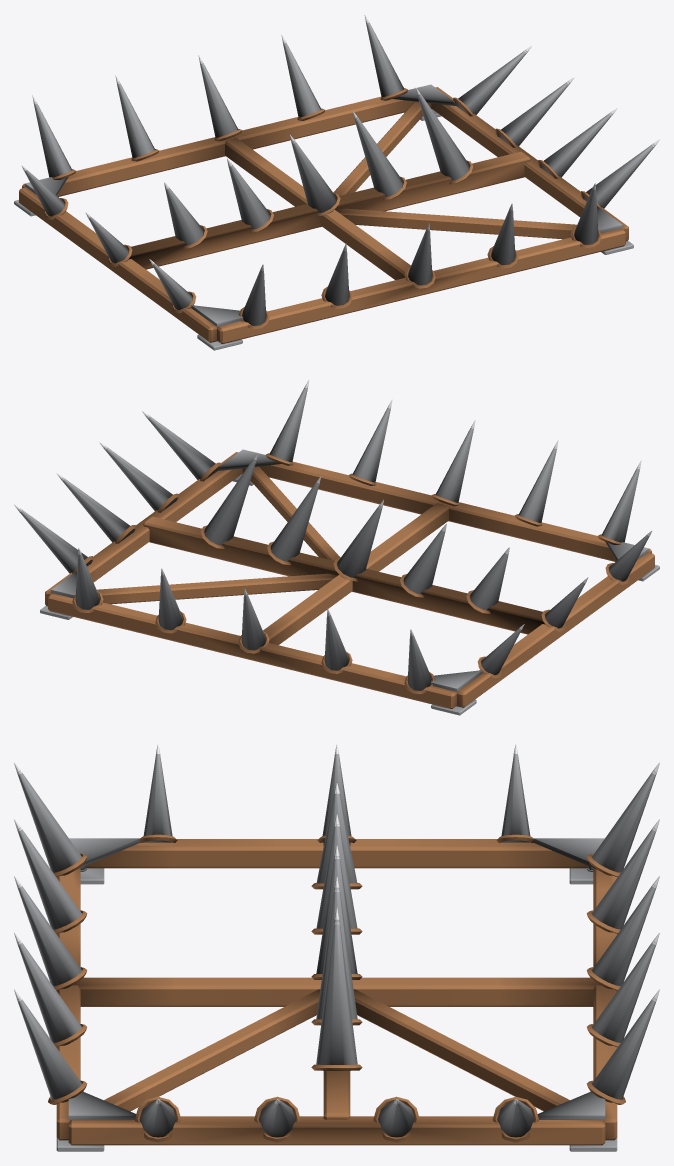
Rendered from roof_spikes.glb.
The picture shows the model from 3 angles, top to bottom: view 1: azimuth 30°, elevation 25°; view 2: azimuth 150°, elevation 25°; view 3: azimuth 270°, elevation 25°; orthographic projection. The views are drawn at different scales.
Visible parts, largest first — view 1: PART; view 2: PART; view 3: PART.
Boxes of the visible parts, bbox=[...] form: PART: bbox=[14, 14, 659, 350]; PART: bbox=[14, 379, 659, 715]; PART: bbox=[14, 744, 659, 1151].
Size of the model in its own units: 1.38 by 0.3023 by 1.08.
